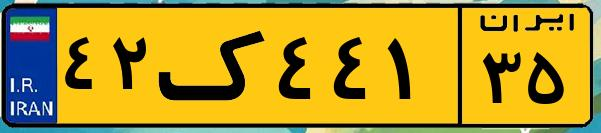1: (385, 28, 445, 110)
2: (110, 28, 158, 98)
3: (475, 38, 525, 113)
4: (270, 28, 330, 110), (330, 28, 385, 110), (57, 26, 110, 100)
5: (525, 38, 570, 115)
ک: (158, 12, 270, 120)
